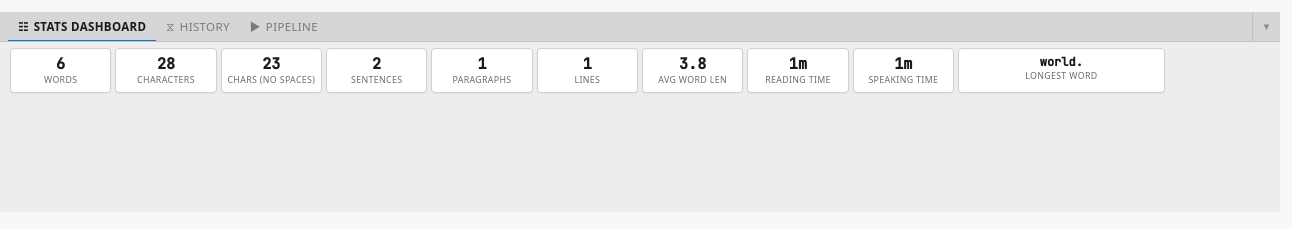
Test: BottomPanel › switches to pipeline tab
Click the button "▶ Pipeline": (284, 26) top-left (240, 12), bottom-right (328, 41)
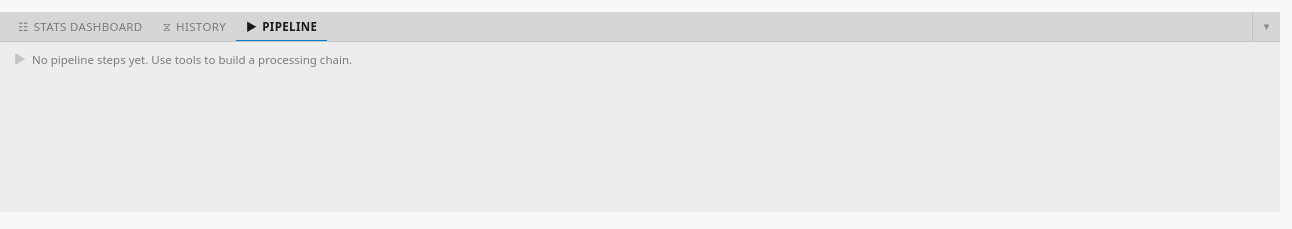
Now the text "No pipeline steps yet" is shown, box top-left (32, 52), bottom-right (352, 66)
